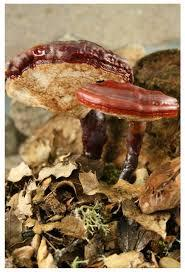Ganoderma - Fruit Body: (6, 40, 135, 82), (78, 84, 179, 121)
